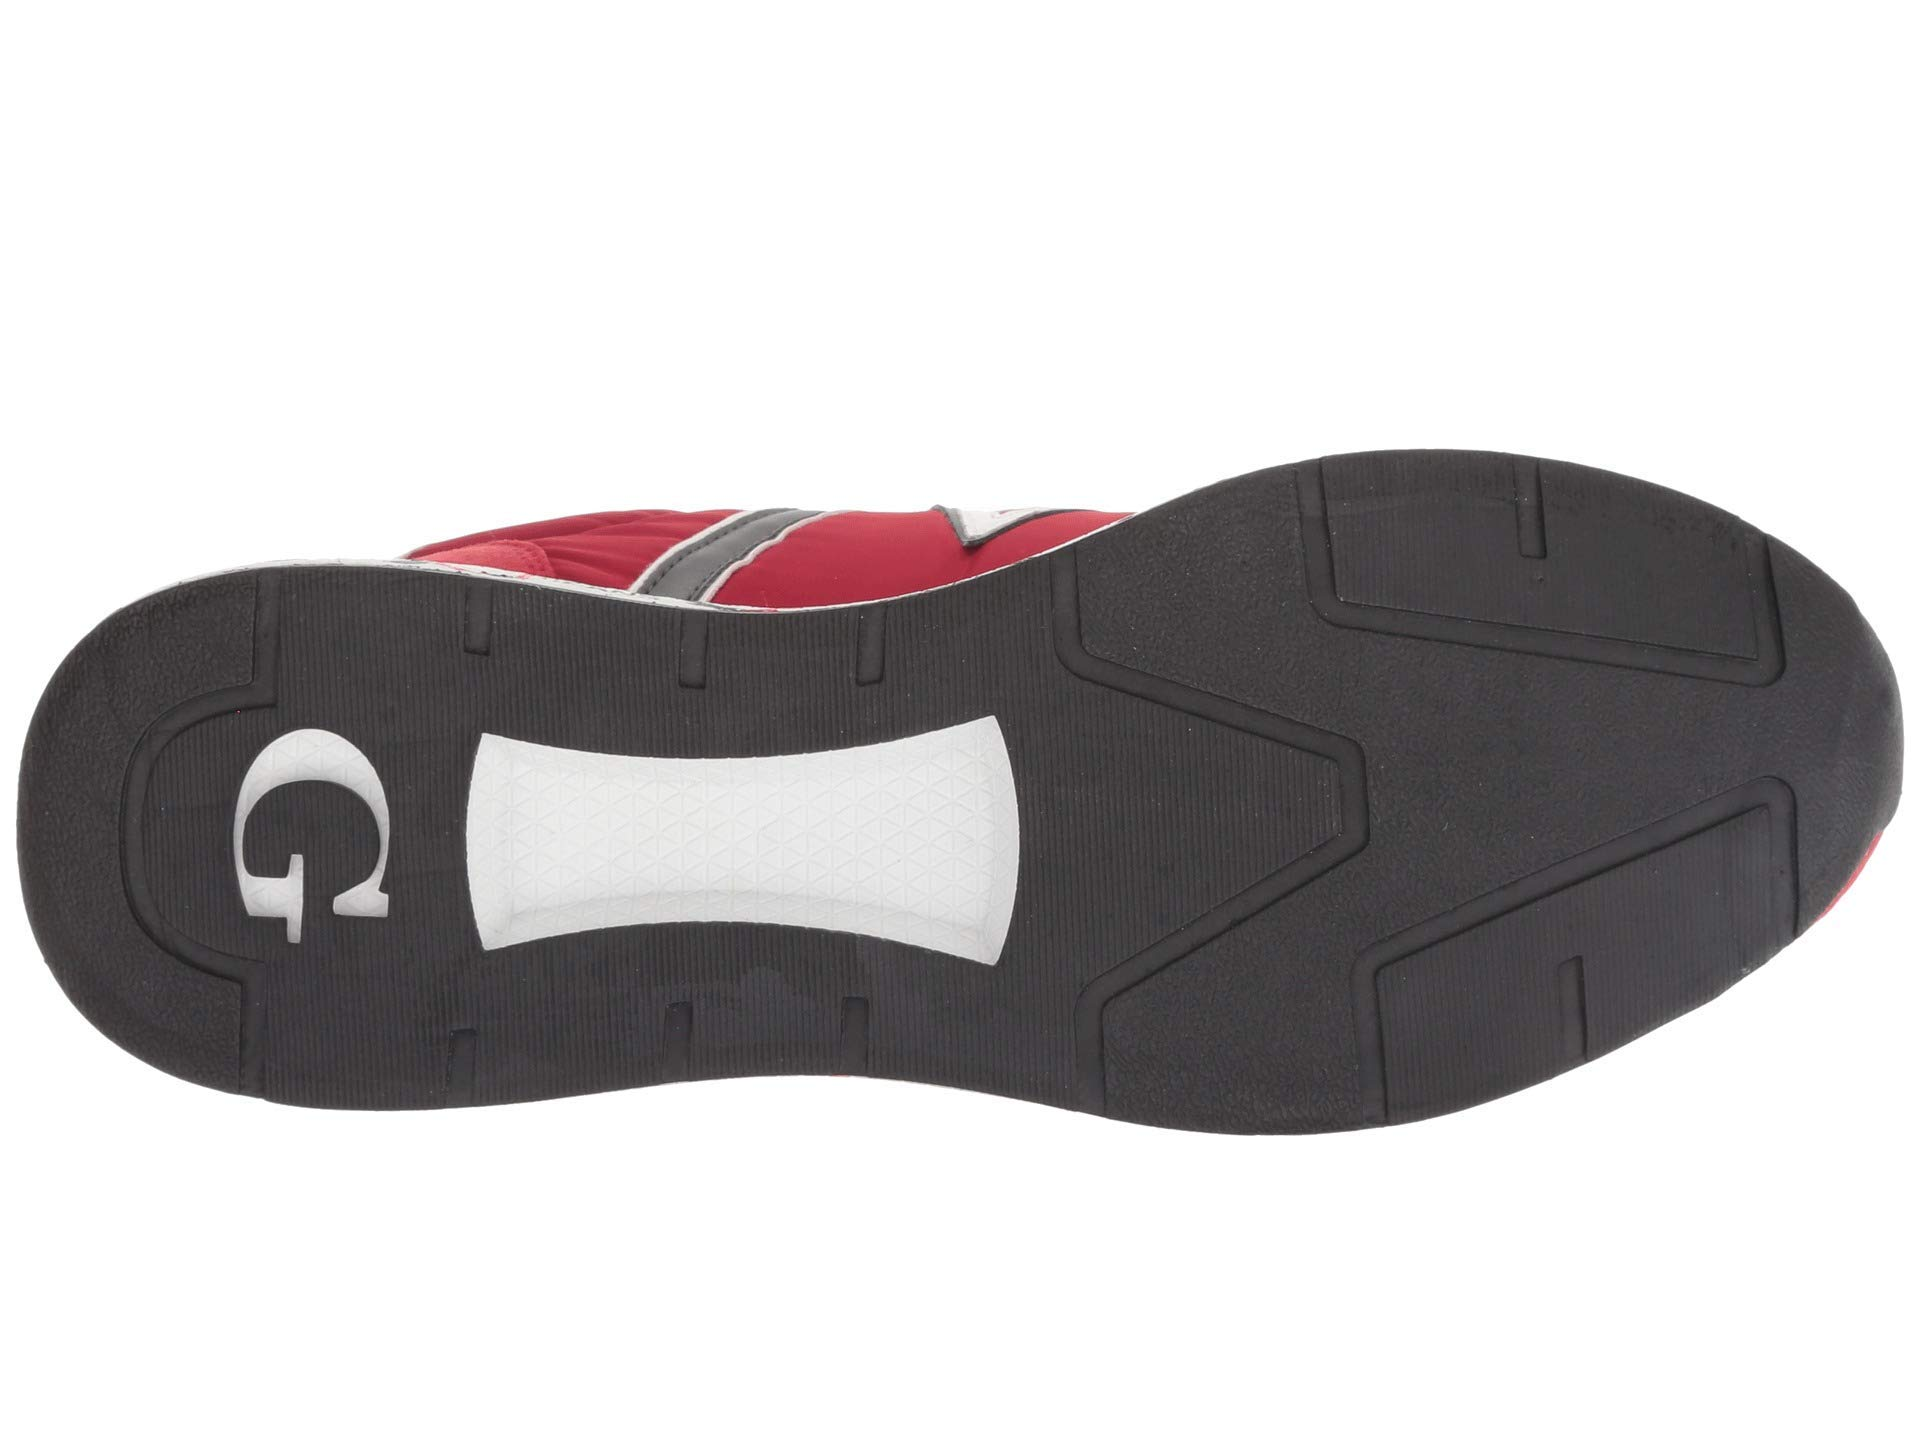line: (1104, 732, 1249, 895), (263, 957, 417, 1086), (54, 737, 113, 988), (295, 594, 399, 732), (951, 989, 1042, 1078), (171, 768, 219, 920), (514, 1016, 594, 1088)
quad: (416, 706, 1070, 974), (1518, 939, 1612, 1075), (639, 613, 744, 691), (443, 576, 529, 669), (827, 607, 913, 687), (636, 998, 708, 1091), (429, 1013, 488, 1124), (827, 991, 884, 1091)
